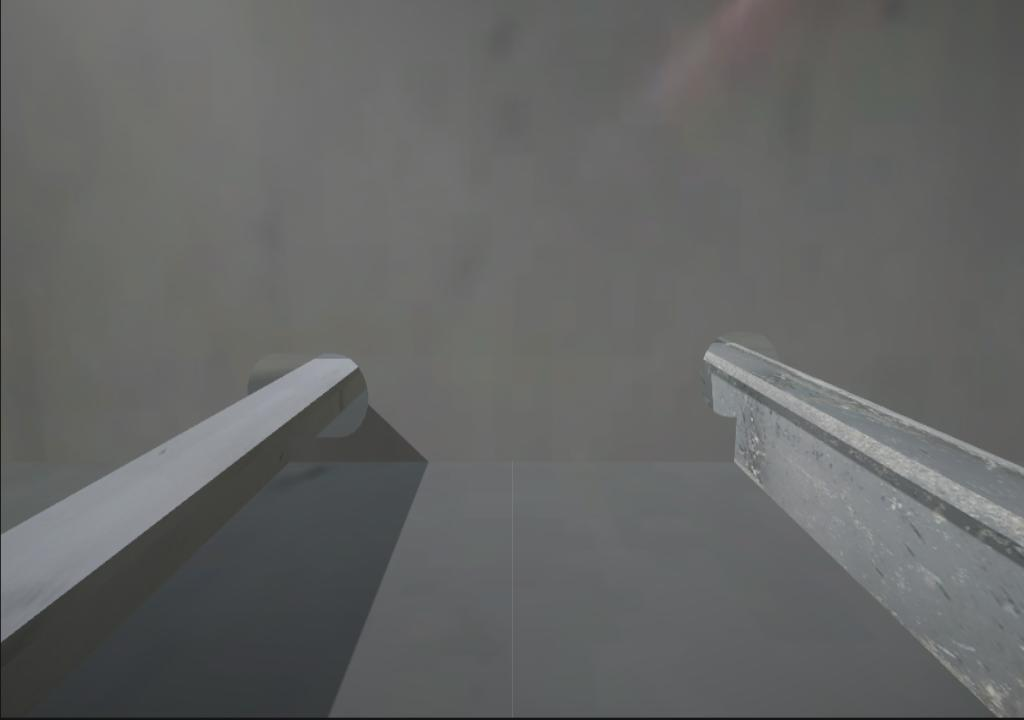fillet_yong_jeop_jang: (272, 452, 740, 475)
longi_yong_jeop_jang: (724, 410, 745, 470), (281, 429, 294, 467)
